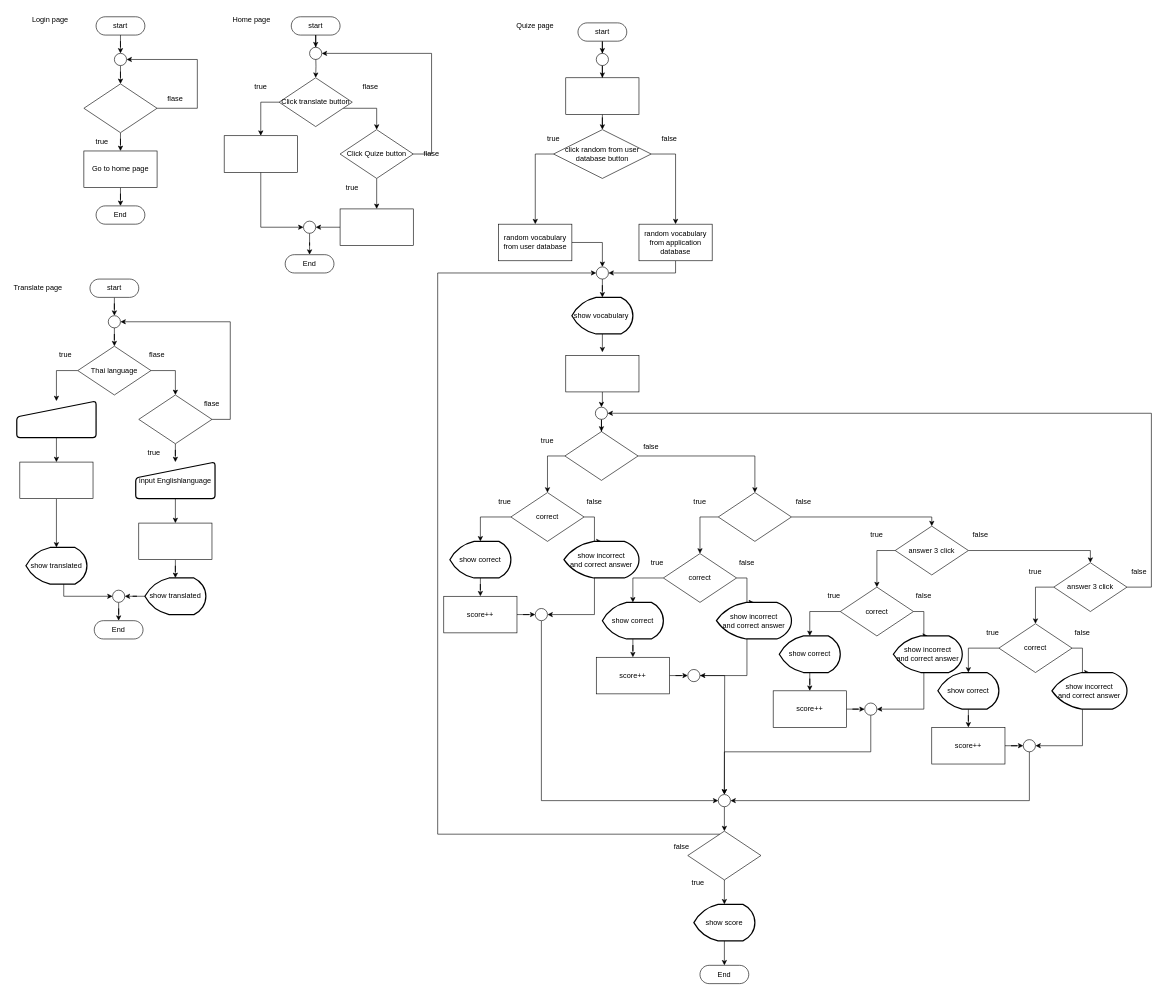
Some shapes in this 1168 by 994 pixel diagram are drawn without their labels. The shapes that lost their labels are listed below. From the top down, each one's centre as x and y in pixels, then its label:
At (120,108): "Click google login button".
At (602,95): "score = 0 question = 0".
At (260,153): "Go to translatepage".
At (376,227): "Go to quize page".
At (602,373): "question ++ random 4 answer".
At (56,419): "input thai language".
At (175,419): "English language".
At (601,455): "answer 1 click".
At (56,480): "Translate th to en".
At (754,516): "answer 2 click".
At (175,541): "Translate en to th".
At (724,855): "question = 10".
